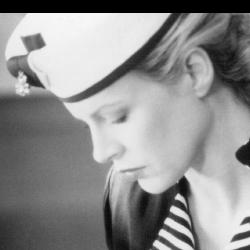face: (20, 13, 248, 208)
